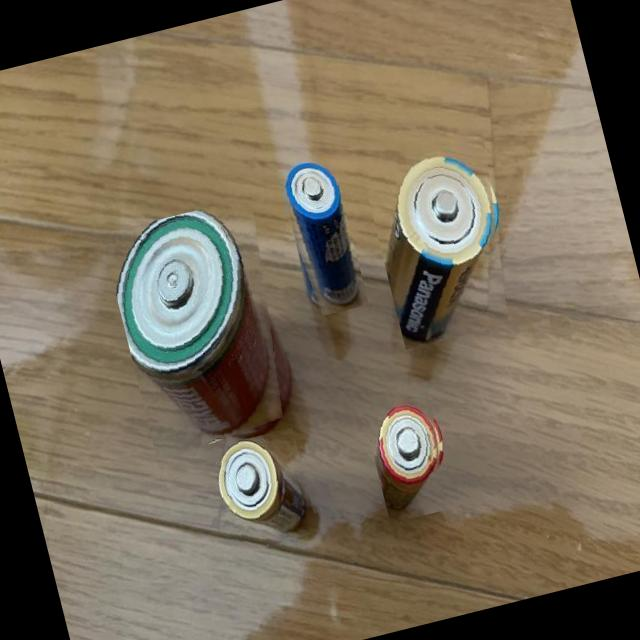Hazard: (100, 195, 310, 466), (358, 129, 528, 349), (269, 150, 369, 319), (206, 427, 320, 556), (362, 390, 458, 522)
